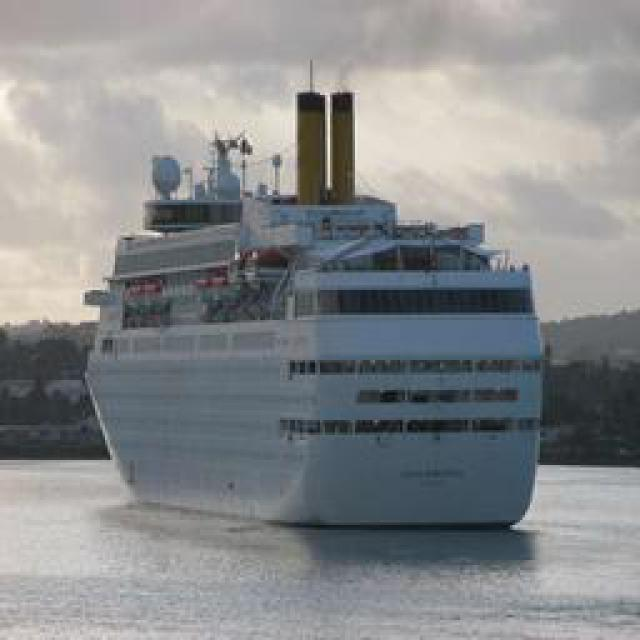Ship: (76, 110, 549, 533)
